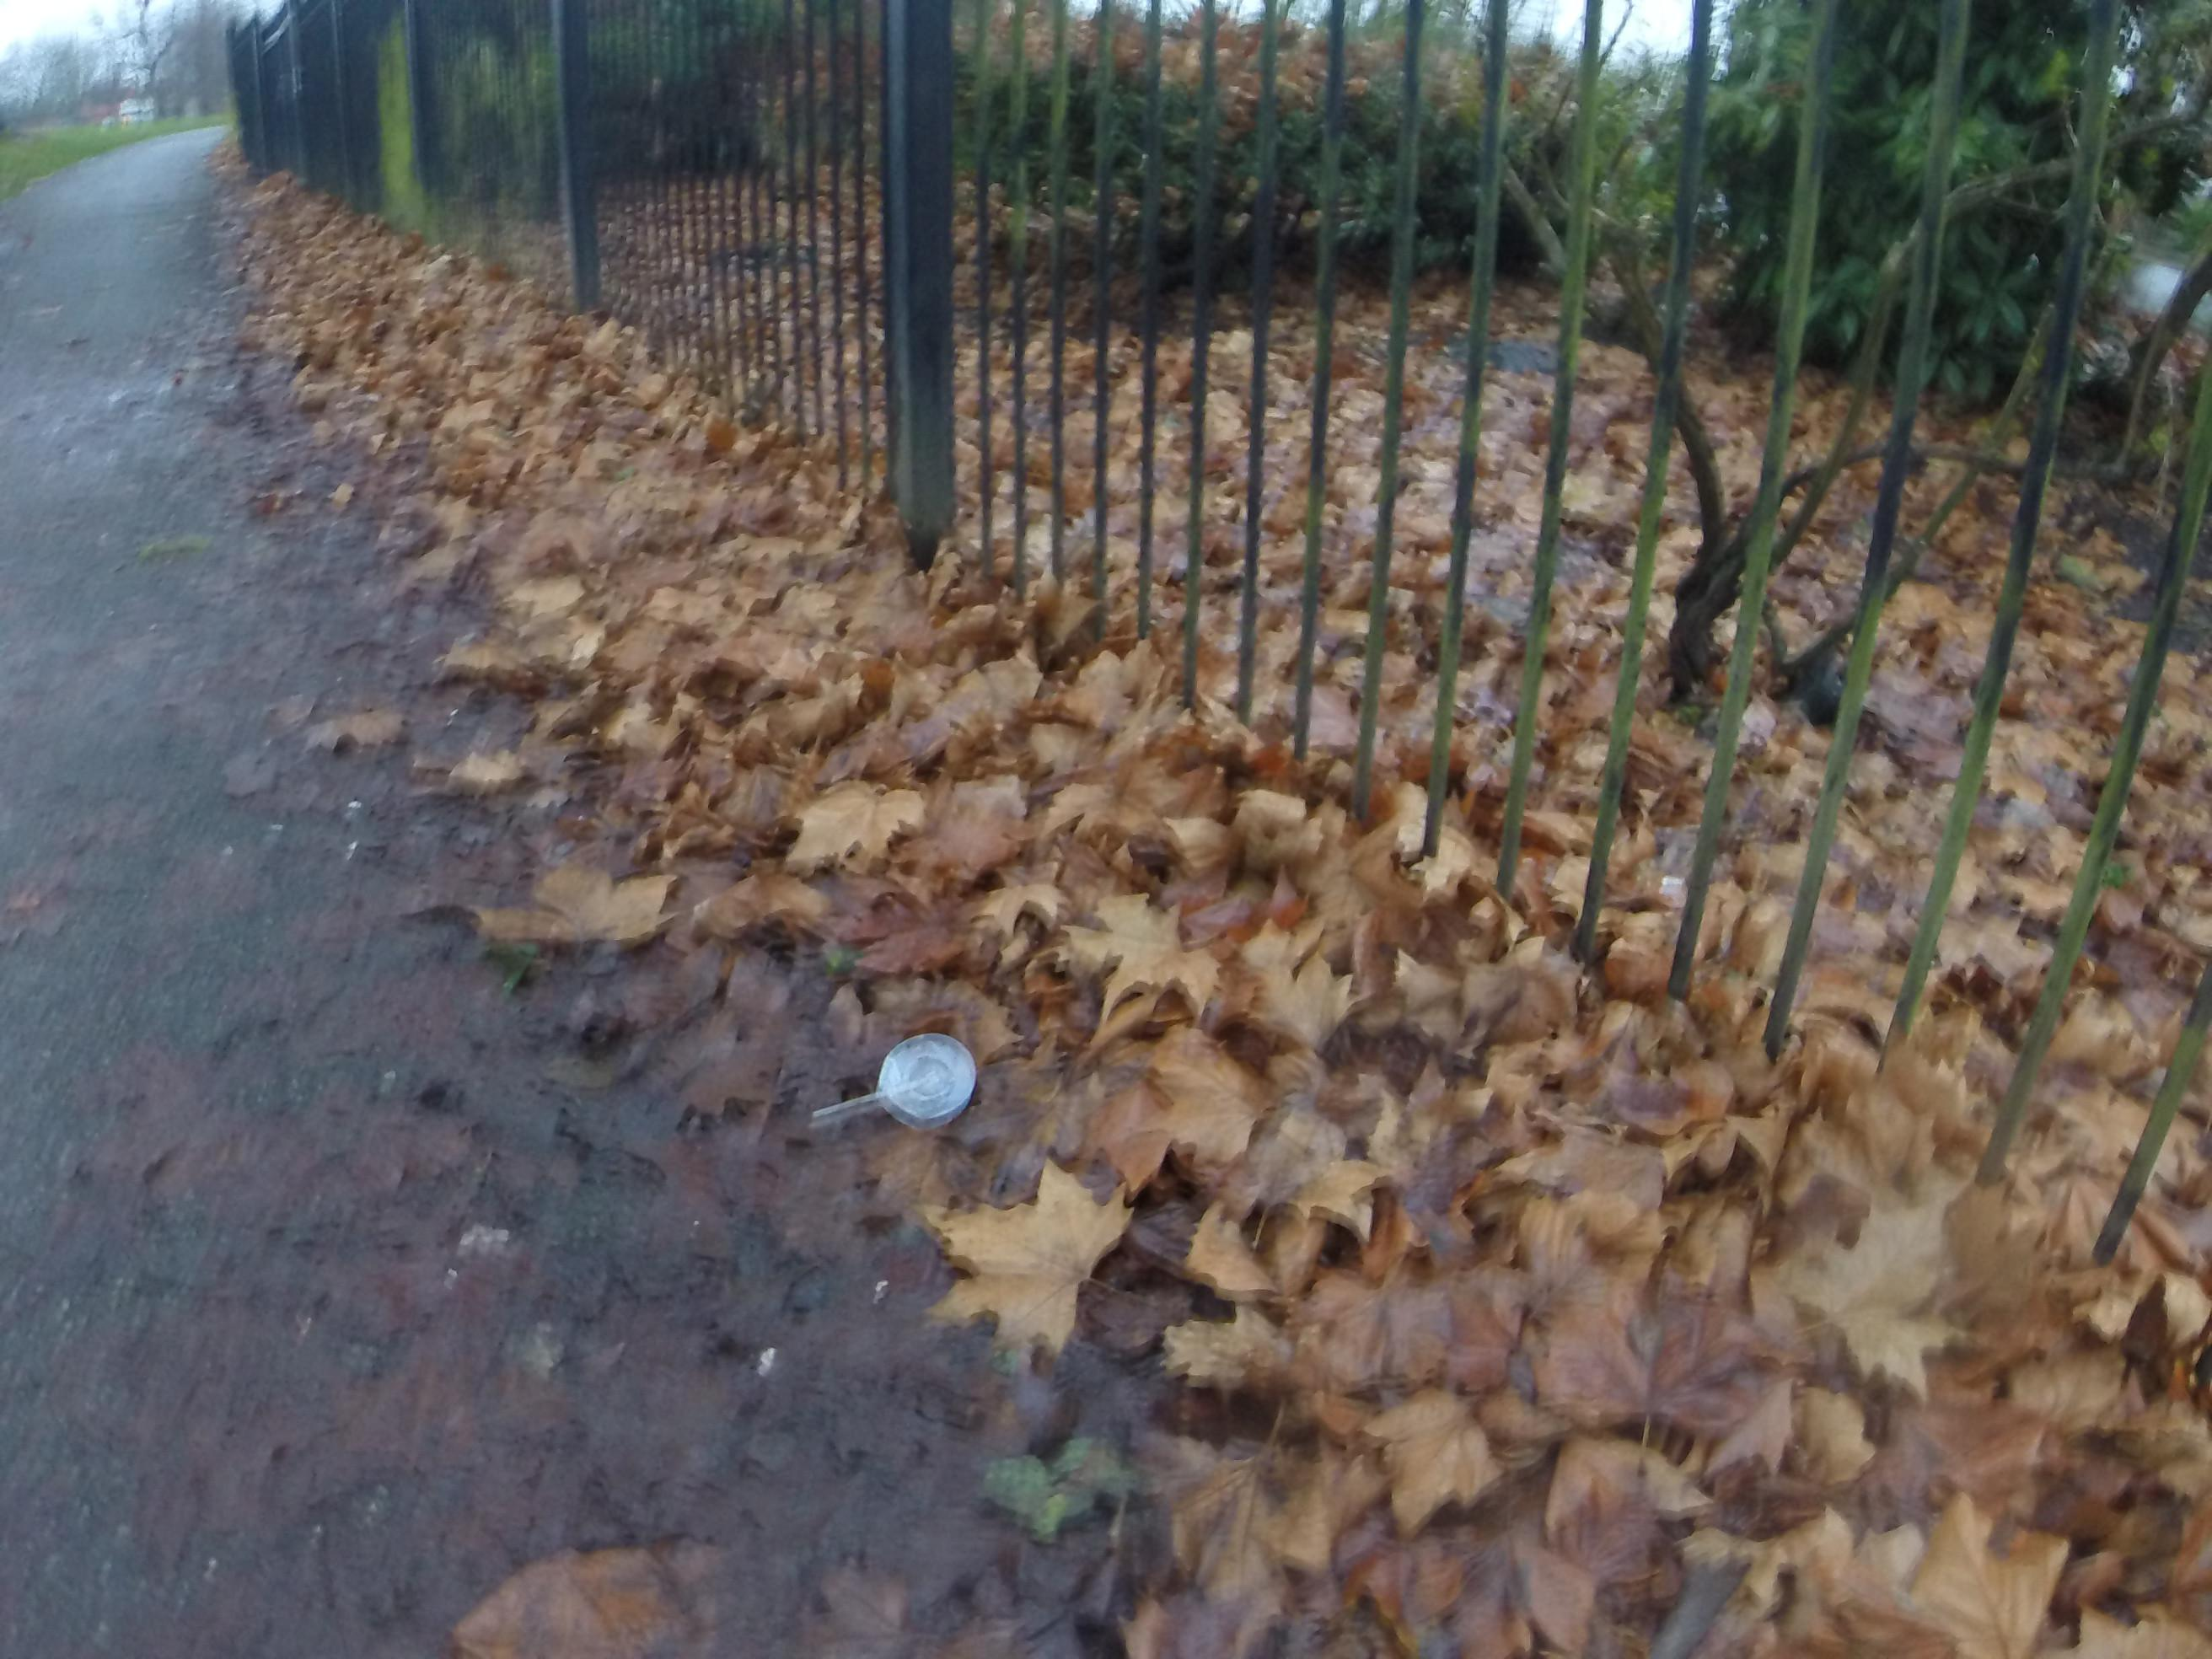Trash: (815, 1025, 975, 1121)
